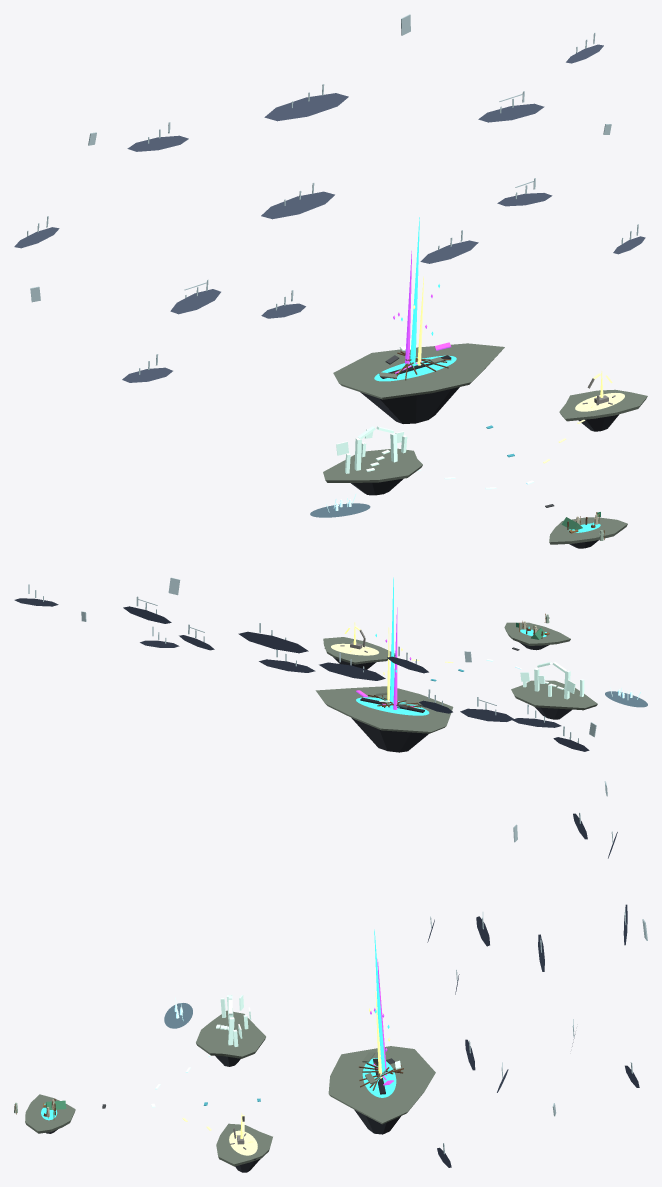
Rendered from memory_wastes_vista_benchmark_v001.glb.
The picture shows the model from 3 angles, top to bottom: view 1: azimuth 30°, elevation 25°; view 2: azimuth 150°, elevation 25°; view 3: azimuth 270°, elevation 25°; orthographic projection. The views are drawn at different scales.
Visible parts, largest first — view 1: WORLDROOT_RIFT_FarMidDominantSplitIsland_IrregularFloatingIs, WORLDROOT_RIFT_FarMidDominantSplitIsland_TaperedUnderside_Ha, LOST_RUINS_MidLeftElevatedHalfManifestedIsland_IrregularFloa, DEAD_GOD_SHRINE_MidRightIsolatedCeremonialIsland_IrregularFl, BACKGROUND_Archipelago_DistantFloatingIsland_09, WORLDROOT_RIFT_FarMidDominantSplitIsland_MutedMossSkin_Asymm, BACKGROUND_Archipelago_DistantFloatingIsland_06, SAFE_CAMP_ForegroundLowFoothold_IrregularFloatingIslandTop; view 2: WORLDROOT_RIFT_FarMidDominantSplitIsland_IrregularFloatingIs, LOST_RUINS_MidLeftElevatedHalfManifestedIsland_IrregularFloa, WORLDROOT_RIFT_FarMidDominantSplitIsland_TaperedUnderside_Ha, DEAD_GOD_SHRINE_MidRightIsolatedCeremonialIsland_IrregularFl, SAFE_CAMP_ForegroundLowFoothold_IrregularFloatingIslandTop, BACKGROUND_Archipelago_DistantFloatingIsland_09, WORLDROOT_RIFT_FarMidDominantSplitIsland_MutedMossSkin_Asymm, BACKGROUND_Archipelago_DistantFloatingIsland_06, LOST_RUINS_MidLeftElevatedHalfManifestedIsland_MutedMossSkin, WORLDROOT_RIFT_CyanMemoryLight_FromBelow, BACKGROUND_Archipelago_DistantFloatingIsland_01, BACKGROUND_Archipelago_DistantFloatingIsland_03 (+8 smaller); view 3: WORLDROOT_RIFT_FarMidDominantSplitIsland_IrregularFloatingIs, LOST_RUINS_MidLeftElevatedHalfManifestedIsland_IrregularFloa, DEAD_GOD_SHRINE_MidRightIsolatedCeremonialIsland_IrregularFl, WORLDROOT_RIFT_FarMidDominantSplitIsland_MutedMossSkin_Asymm, SAFE_CAMP_ForegroundLowFoothold_IrregularFloatingIslandTop, WORLDROOT_RIFT_CyanMemoryLight_FromBelow.
Part boxes in pixels (bbox=[...]): WORLDROOT_RIFT_FarMidDominantSplitIsland_IrregularFloatingIs: bbox=[333, 343, 504, 399]; WORLDROOT_RIFT_FarMidDominantSplitIsland_TaperedUnderside_Ha: bbox=[360, 387, 459, 423]; LOST_RUINS_MidLeftElevatedHalfManifestedIsland_IrregularFloa: bbox=[323, 448, 422, 482]; DEAD_GOD_SHRINE_MidRightIsolatedCeremonialIsland_IrregularFl: bbox=[559, 389, 647, 421]; BACKGROUND_Archipelago_DistantFloatingIsland_09: bbox=[264, 93, 348, 121]; WORLDROOT_RIFT_FarMidDominantSplitIsland_MutedMossSkin_Asymm: bbox=[372, 350, 465, 389]; BACKGROUND_Archipelago_DistantFloatingIsland_06: bbox=[261, 191, 334, 219]; SAFE_CAMP_ForegroundLowFoothold_IrregularFloatingIslandTop: bbox=[549, 517, 627, 544]; WORLDROOT_RIFT_FarMidDominantSplitIsland_IrregularFloatingIs: bbox=[315, 686, 453, 733]; LOST_RUINS_MidLeftElevatedHalfManifestedIsland_IrregularFloa: bbox=[511, 680, 597, 710]; WORLDROOT_RIFT_FarMidDominantSplitIsland_TaperedUnderside_Ha: bbox=[351, 718, 428, 752]; DEAD_GOD_SHRINE_MidRightIsolatedCeremonialIsland_IrregularFl: bbox=[323, 637, 395, 664]; SAFE_CAMP_ForegroundLowFoothold_IrregularFloatingIslandTop: bbox=[504, 622, 570, 645]; BACKGROUND_Archipelago_DistantFloatingIsland_09: bbox=[238, 631, 308, 653]; WORLDROOT_RIFT_FarMidDominantSplitIsland_MutedMossSkin_Asymm: bbox=[341, 696, 435, 717]; BACKGROUND_Archipelago_DistantFloatingIsland_06: bbox=[319, 662, 385, 680]; LOST_RUINS_MidLeftElevatedHalfManifestedIsland_MutedMossSkin: bbox=[523, 685, 577, 701]; WORLDROOT_RIFT_CyanMemoryLight_FromBelow: bbox=[356, 697, 429, 715]; BACKGROUND_Archipelago_DistantFloatingIsland_01: bbox=[460, 708, 513, 721]; BACKGROUND_Archipelago_DistantFloatingIsland_03: bbox=[259, 659, 315, 672]; WORLDROOT_RIFT_FarMidDominantSplitIsland_IrregularFloatingIs: bbox=[328, 1046, 435, 1124]; LOST_RUINS_MidLeftElevatedHalfManifestedIsland_IrregularFloa: bbox=[196, 1010, 265, 1058]; DEAD_GOD_SHRINE_MidRightIsolatedCeremonialIsland_IrregularFl: bbox=[216, 1123, 272, 1166]; WORLDROOT_RIFT_FarMidDominantSplitIsland_MutedMossSkin_Asymm: bbox=[348, 1057, 406, 1105]; SAFE_CAMP_ForegroundLowFoothold_IrregularFloatingIslandTop: bbox=[25, 1094, 75, 1133]; WORLDROOT_RIFT_CyanMemoryLight_FromBelow: bbox=[362, 1058, 396, 1097].
Bounding box in the file's own units: 111 × 45.86 × 97.85.
